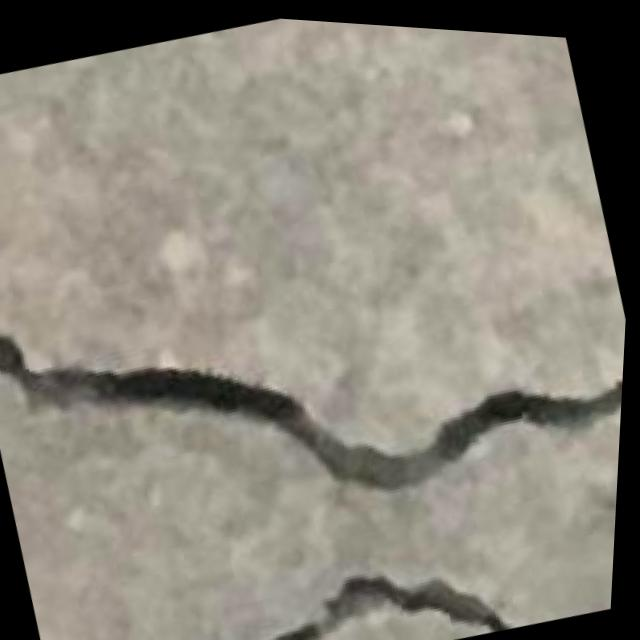Crack: (0, 165, 633, 594), (211, 508, 533, 640)
